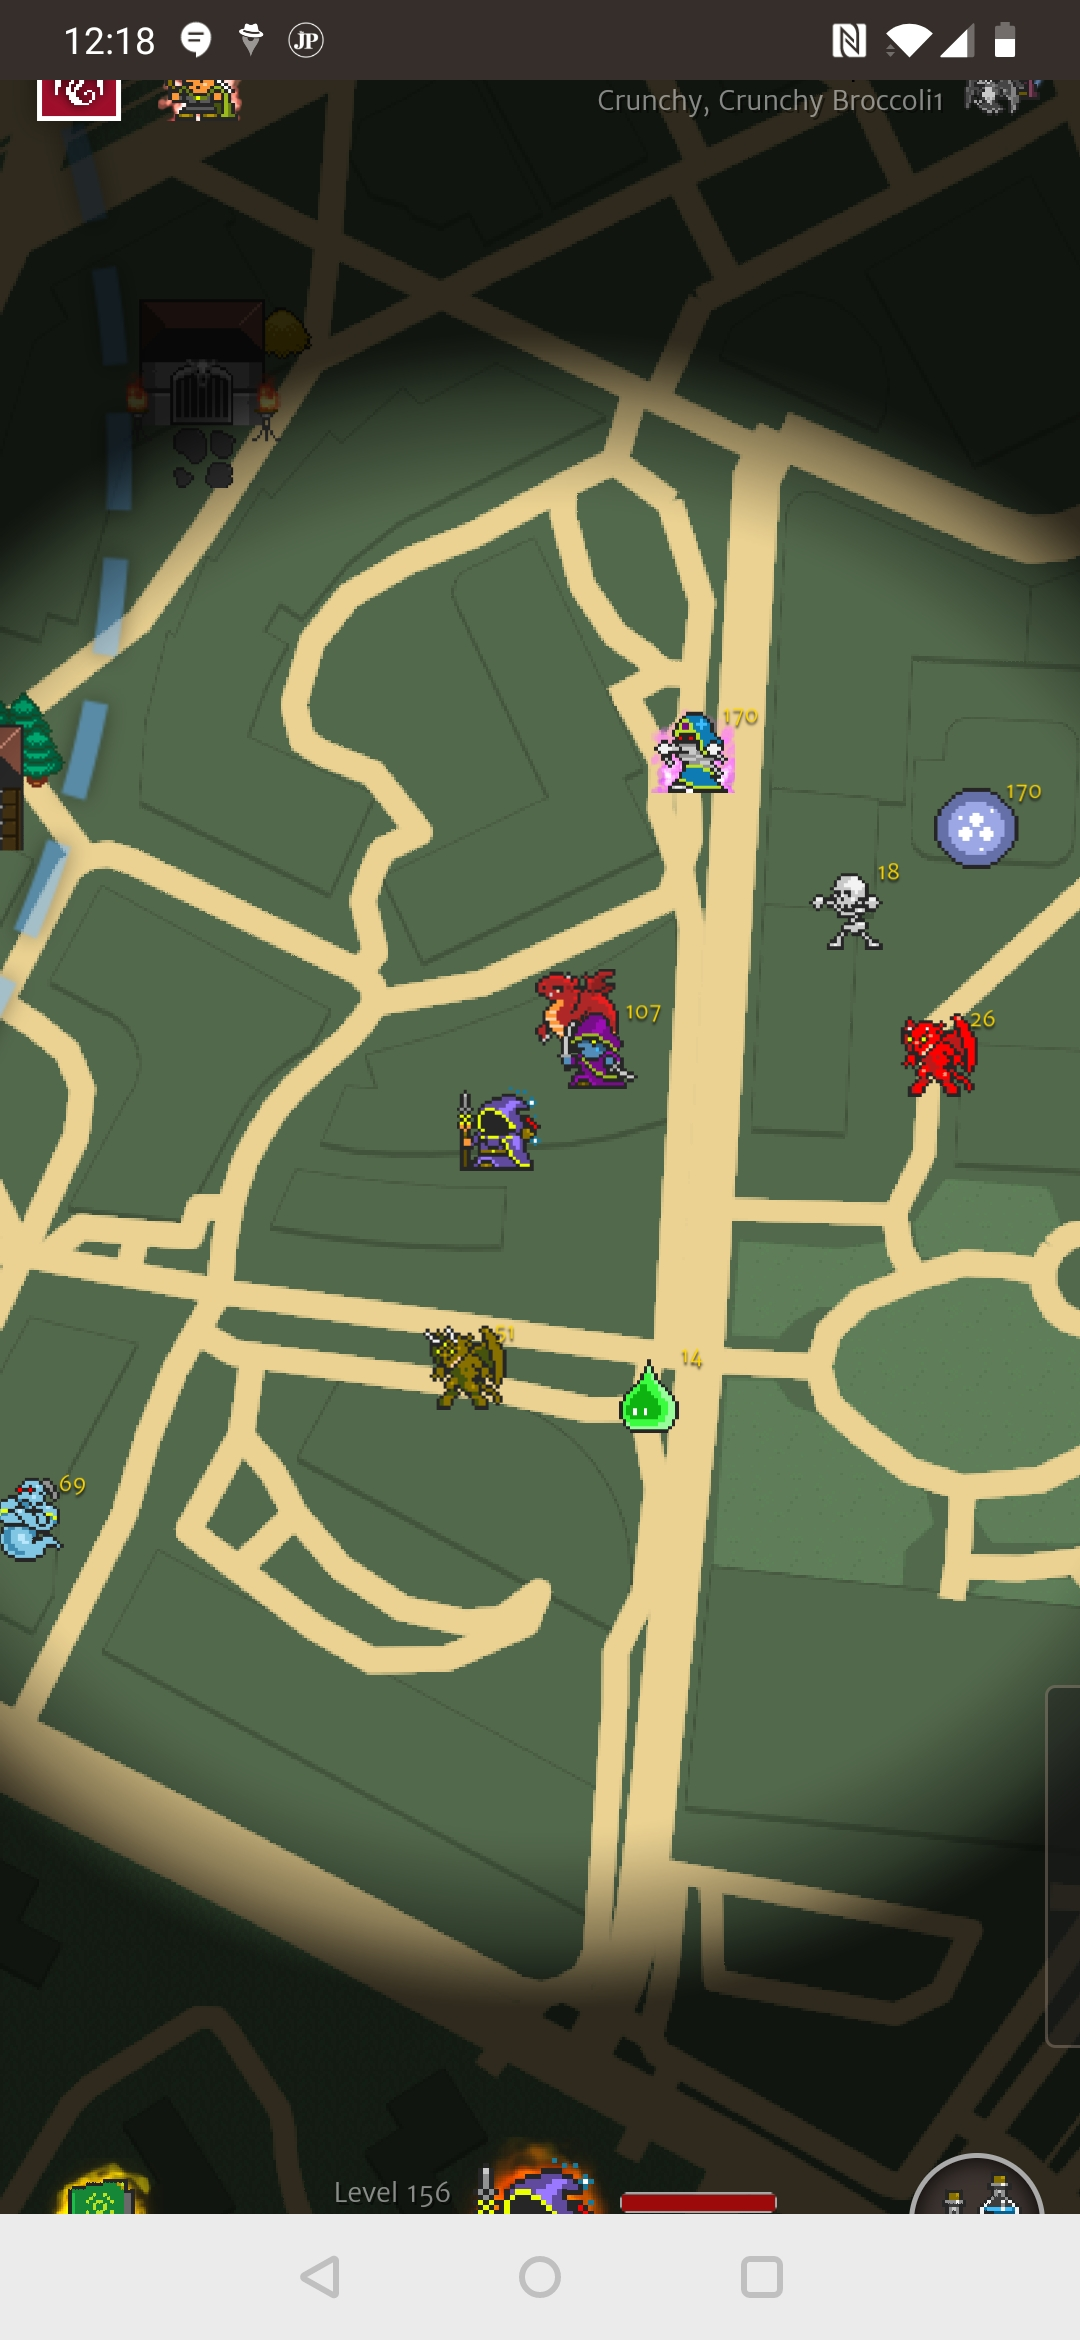monster: (643, 696, 760, 823), (884, 999, 1012, 1109), (926, 785, 1046, 892), (801, 854, 908, 971), (612, 1327, 722, 1437), (553, 996, 674, 1096), (1, 1451, 101, 1560), (422, 1316, 508, 1416)
player: (436, 1089, 553, 1178)
